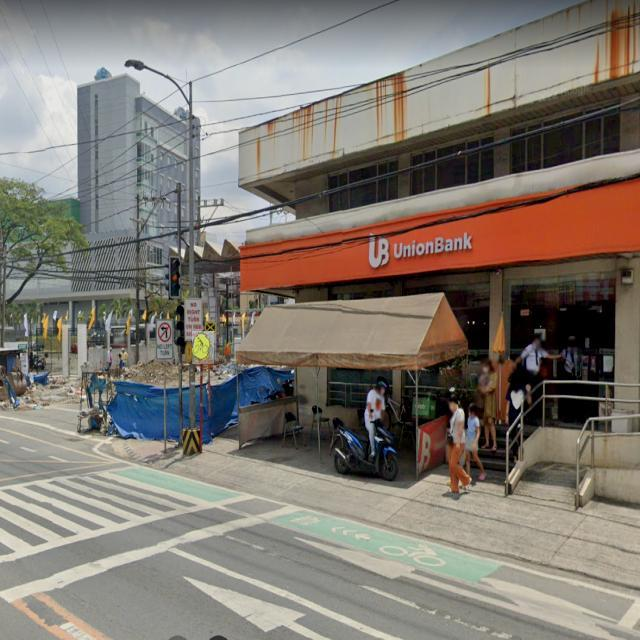bike lane: (192, 331, 214, 364)
